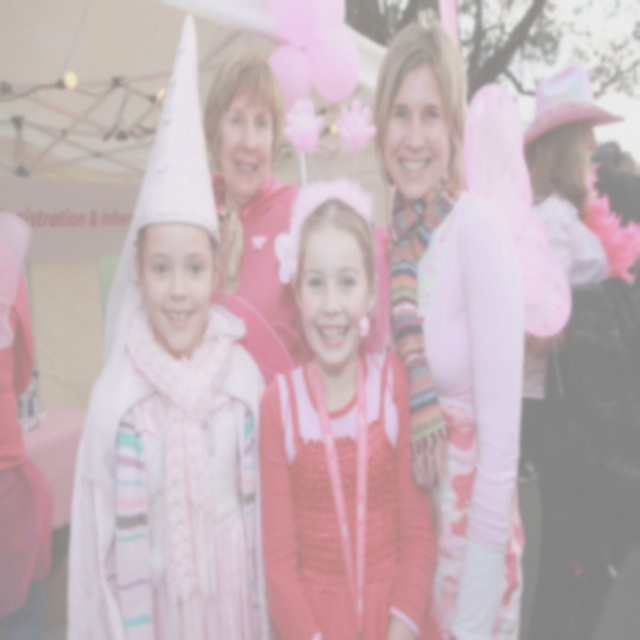pessoa: (64, 4, 276, 639), (370, 18, 530, 639), (253, 179, 450, 639), (510, 61, 639, 639), (202, 50, 315, 388), (0, 204, 55, 638), (596, 133, 640, 222)
